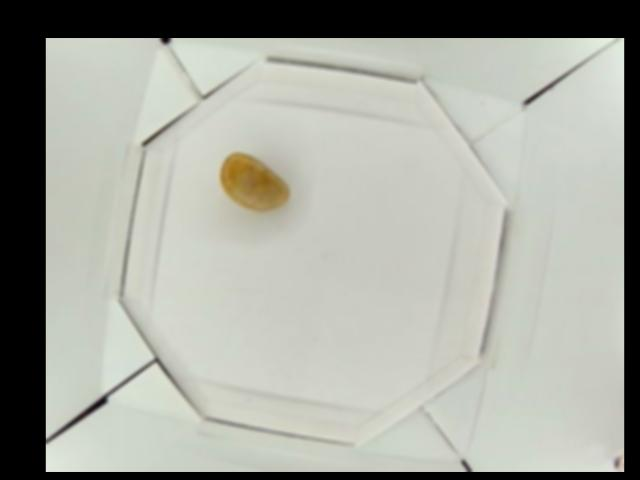Pebble: (218, 151, 290, 210)
